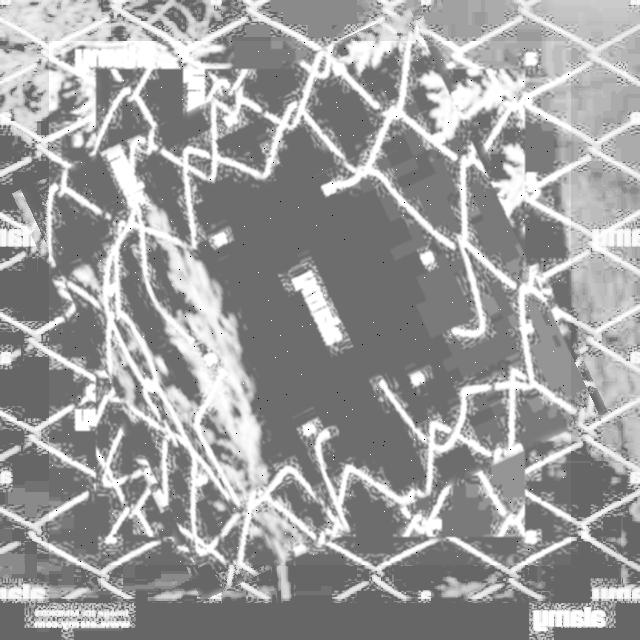anomaly-fence: (49, 41, 571, 565)
